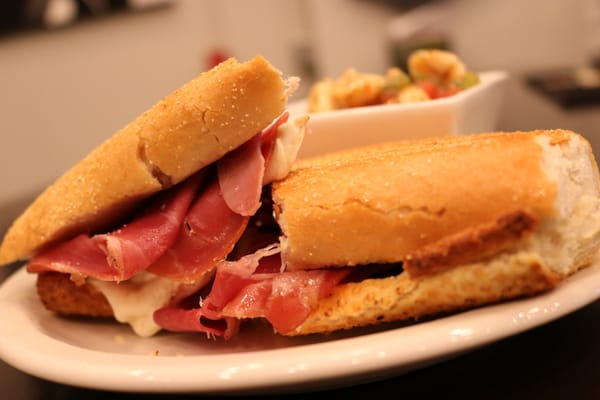soup: (0, 52, 312, 339), (194, 129, 600, 335)
sushi: (296, 53, 511, 156)
